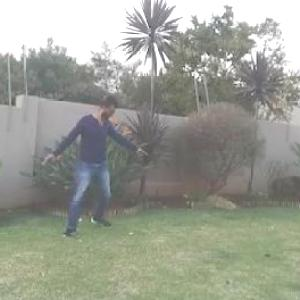land: (31, 85, 166, 251)
